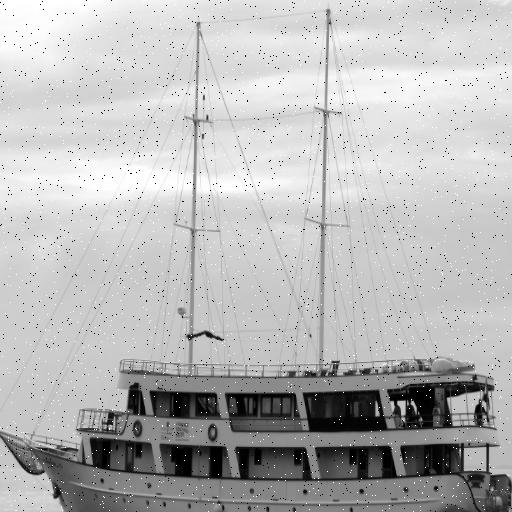cruises: (20, 348, 512, 512)
